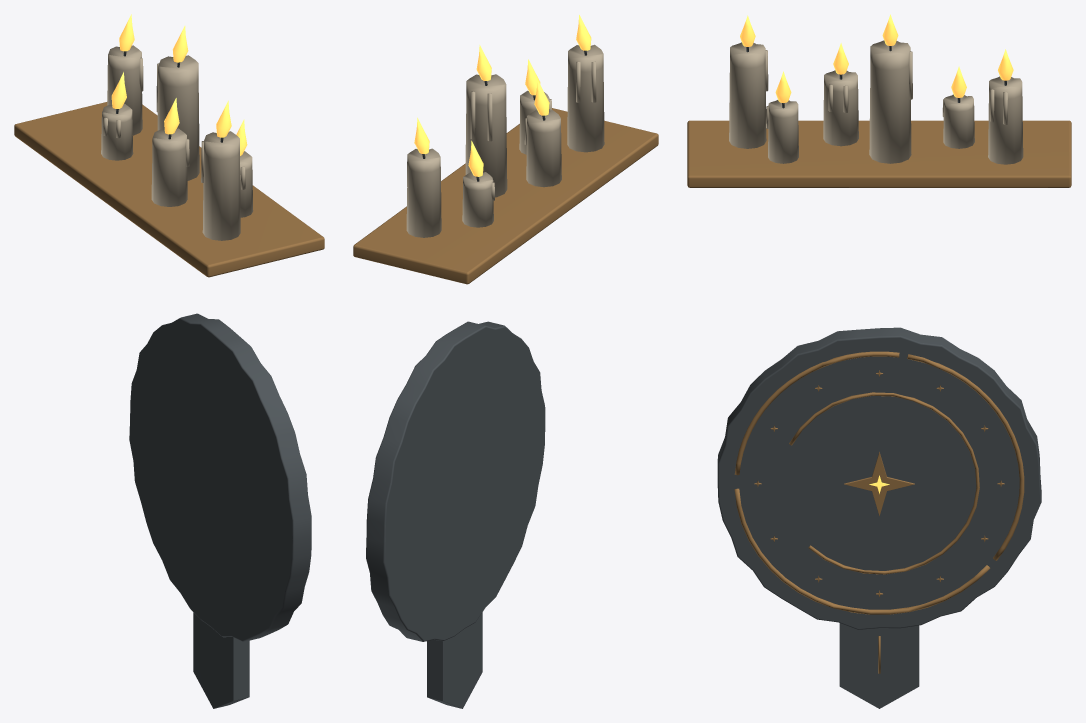
The model's file is corner_details.glb.
3 views of the same model, side by side, from view 1: azimuth 30°, elevation 25°; view 2: azimuth 150°, elevation 25°; view 3: azimuth 270°, elevation 25° (orthographic).
Visible parts, largest first — view 1: Corner_Basalt_geometry, Corner_Bronze_geometry, Corner_Limestone_geometry, Corner_Ember_geometry; view 2: Corner_Basalt_geometry, Corner_Bronze_geometry, Corner_Limestone_geometry, Corner_Ember_geometry; view 3: Corner_Basalt_geometry, Corner_Bronze_geometry, Corner_Limestone_geometry, Corner_Ember_geometry.
Part boxes in pixels (<box>): Corner_Basalt_geometry: <box>116,51,311,708</box>; Corner_Bronze_geometry: <box>14,102,324,277</box>; Corner_Limestone_geometry: <box>101,45,253,240</box>; Corner_Ember_geometry: <box>111,14,247,155</box>; Corner_Basalt_geometry: <box>366,50,586,708</box>; Corner_Bronze_geometry: <box>353,108,658,284</box>; Corner_Limestone_geometry: <box>406,44,604,237</box>; Corner_Ember_geometry: <box>414,15,591,176</box>; Corner_Basalt_geometry: <box>717,46,1041,708</box>; Corner_Bronze_geometry: <box>687,120,1071,673</box>; Corner_Limestone_geometry: <box>729,40,1023,164</box>; Corner_Ember_geometry: <box>740,14,1013,493</box>.
Bounding box in the file's own units: 0.513 × 2.72 × 1.4.
